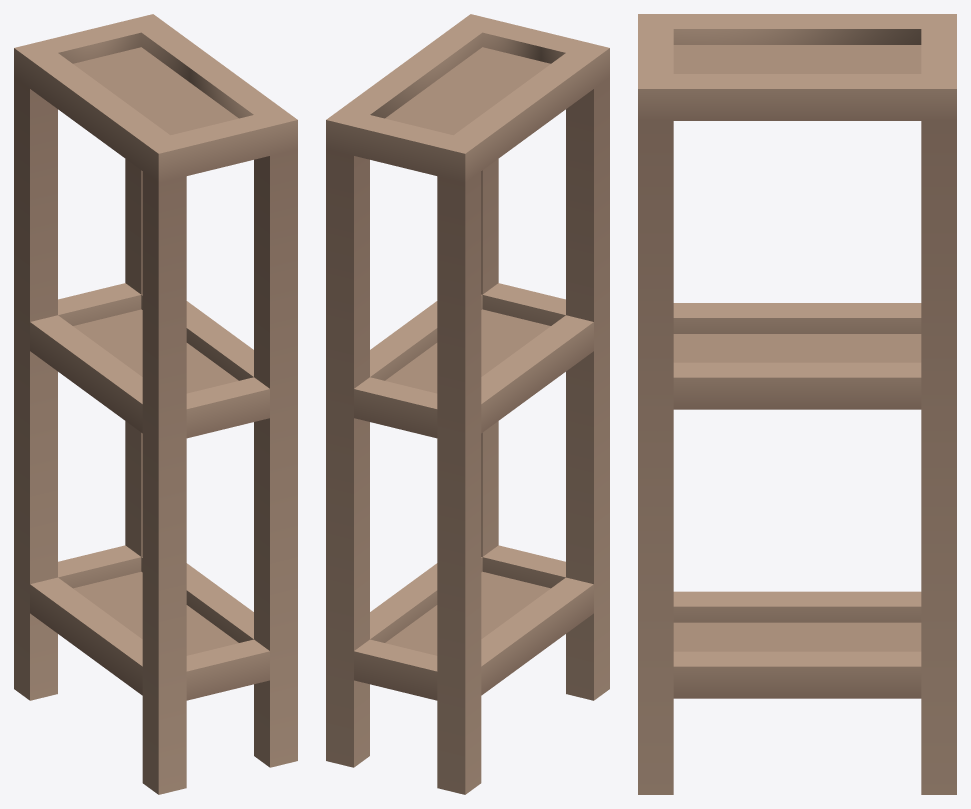
Rendered from cabinet-narrow-tall.glb.
The picture shows the model from 3 angles, left to right: view 1: azimuth 30°, elevation 25°; view 2: azimuth 150°, elevation 25°; view 3: azimuth 270°, elevation 25°; orthographic projection. The views are drawn at different scales.
Visible parts, largest first — view 1: cabinet-narrow-tall; view 2: cabinet-narrow-tall; view 3: cabinet-narrow-tall.
Boxes of the visible parts, x1=… form: cabinet-narrow-tall: x1=14, y1=14, x2=297, y2=794; cabinet-narrow-tall: x1=326, y1=14, x2=609, y2=794; cabinet-narrow-tall: x1=638, y1=14, x2=956, y2=794.
Bounding box in the file's own units: 0.25 × 1.1 × 0.45.
